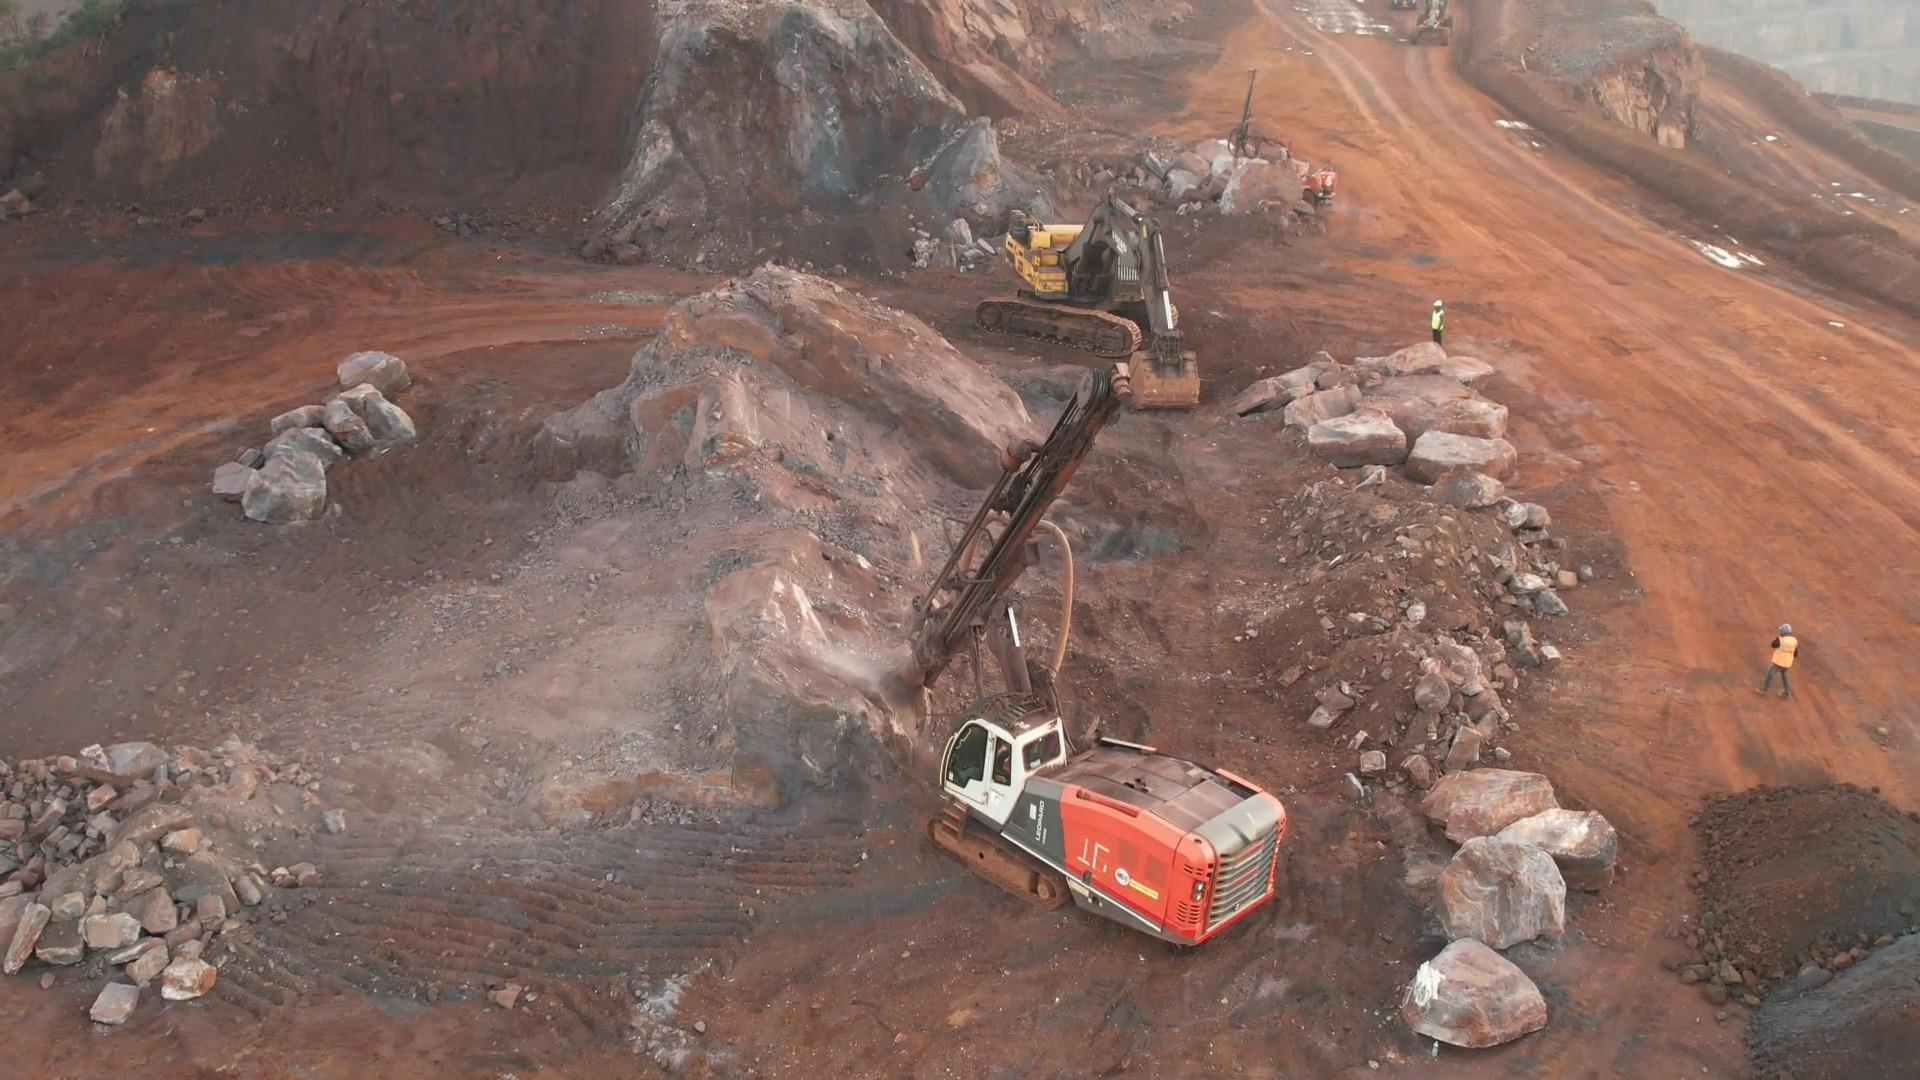excavator: (993, 193, 1199, 361)
